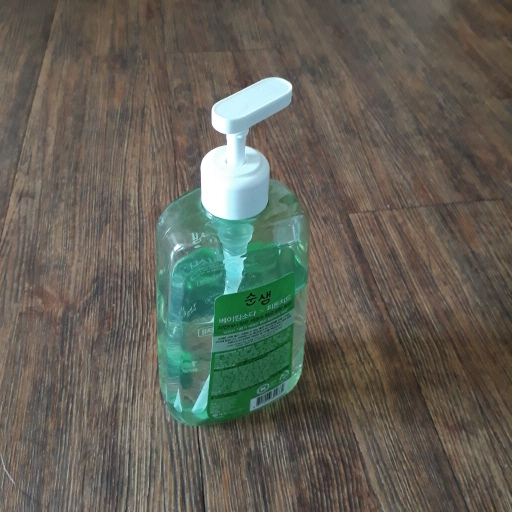Plastic_3: (153, 78, 313, 428)
